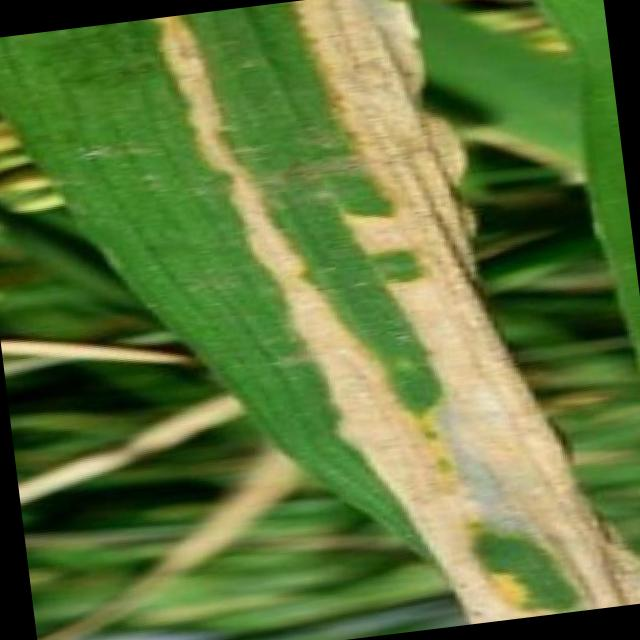Rice_Bacterial_Blight: (92, 0, 512, 569)
